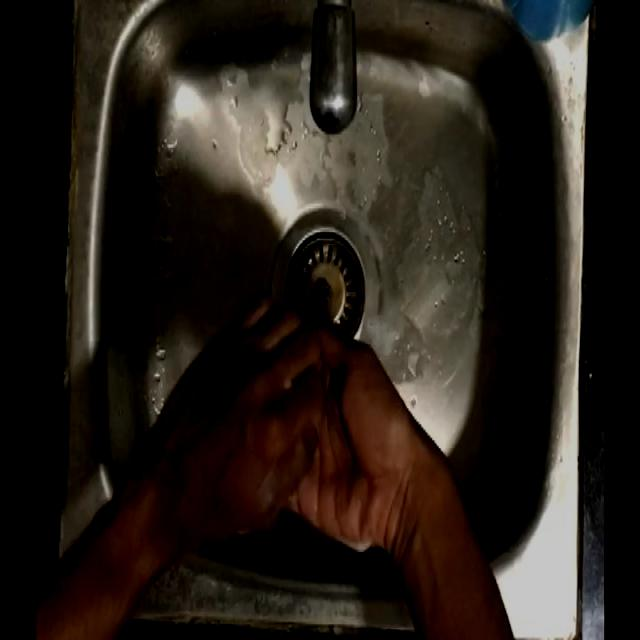step_4: (168, 288, 398, 542)
